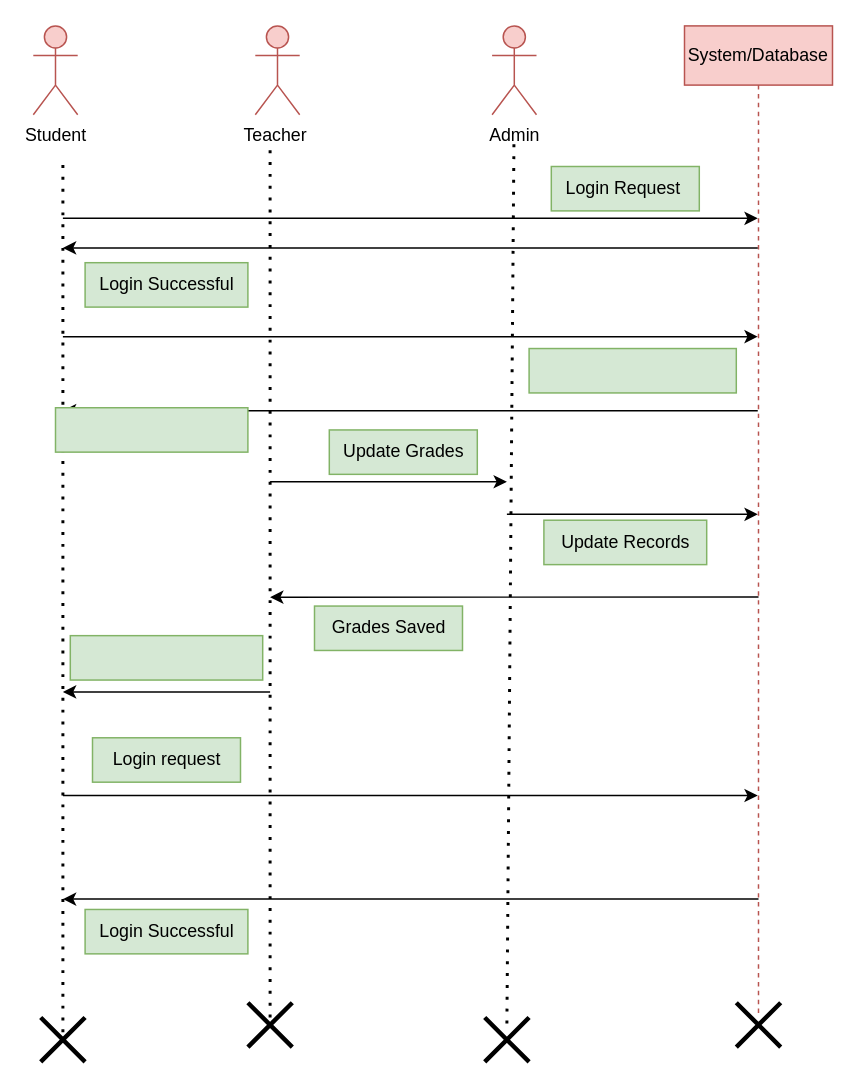
The diagram is 858 pixels wide and 1089 high, and some of its shapes have lost their labels. The centre of each missing label's shape, as x and y in pixels:
"Display Course List" goes at point 151,429.
"Student View Result" goes at point 166,657.
"View Course Request" goes at point 632,370.
